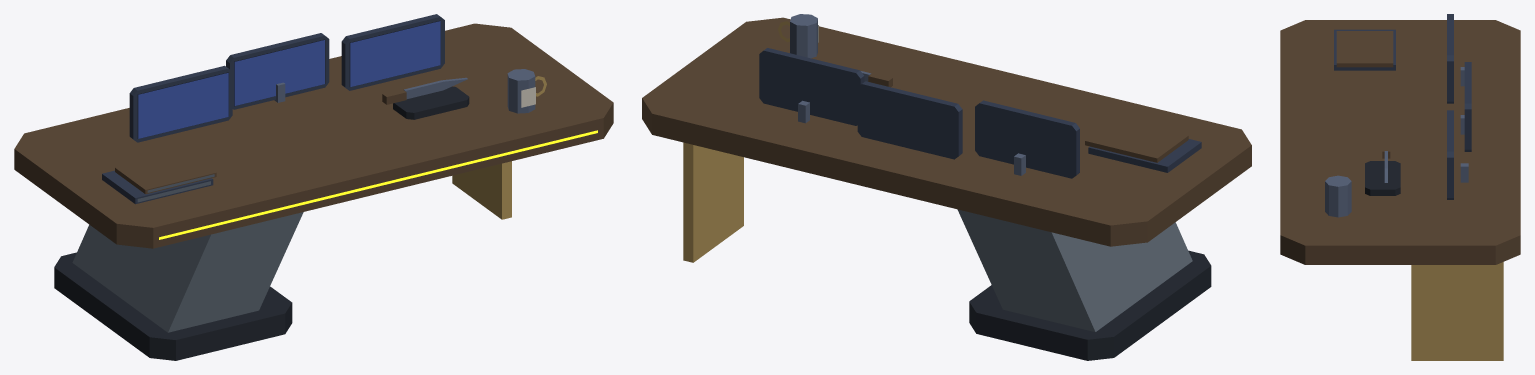
Rendered from res_colonel_desk.glb.
3 renders of one model, left to right at view 1: azimuth 30°, elevation 25°; view 2: azimuth 150°, elevation 25°; view 3: azimuth 270°, elevation 25°, orthographic. The views are drawn at different scales.
Visible parts, largest first — view 1: book_binding.001, angled_monolithic_support, print, cantilever_foot, book_binding, brass_return_leg, ceremonial_dagger, amber_desk_seam, standby_glass, page_edges; view 2: book_binding.001, book_binding, angled_monolithic_support, cantilever_foot, brass_return_leg, ceremonial_dagger; view 3: book_binding.001, brass_return_leg, book_binding, ceremonial_dagger, cantilever_foot.
Boxes of the visible parts, bbox=[...] form: book_binding.001: bbox=[14, 23, 613, 248]; angled_monolithic_support: bbox=[72, 212, 303, 332]; print: bbox=[138, 21, 440, 138]; cantilever_foot: bbox=[54, 86, 469, 360]; book_binding: bbox=[102, 14, 444, 204]; brass_return_leg: bbox=[452, 76, 546, 219]; ceremonial_dagger: bbox=[274, 69, 535, 113]; amber_desk_seam: bbox=[159, 130, 597, 239]; standby_glass: bbox=[137, 20, 440, 138]; page_edges: bbox=[137, 174, 214, 202]; book_binding.001: bbox=[642, 17, 1251, 246]; book_binding: bbox=[759, 48, 1201, 178]; angled_monolithic_support: bbox=[957, 209, 1192, 332]; cantilever_foot: bbox=[969, 250, 1211, 360]; brass_return_leg: bbox=[683, 21, 789, 262]; ceremonial_dagger: bbox=[790, 14, 1025, 175]; book_binding.001: bbox=[1280, 20, 1520, 264]; brass_return_leg: bbox=[1411, 262, 1503, 360]; book_binding: bbox=[1334, 14, 1471, 199]; ceremonial_dagger: bbox=[1325, 67, 1468, 217]; cantilever_foot: bbox=[1365, 161, 1400, 195].
Bounding box in the file's own units: 3 × 1.15 × 1.35.
